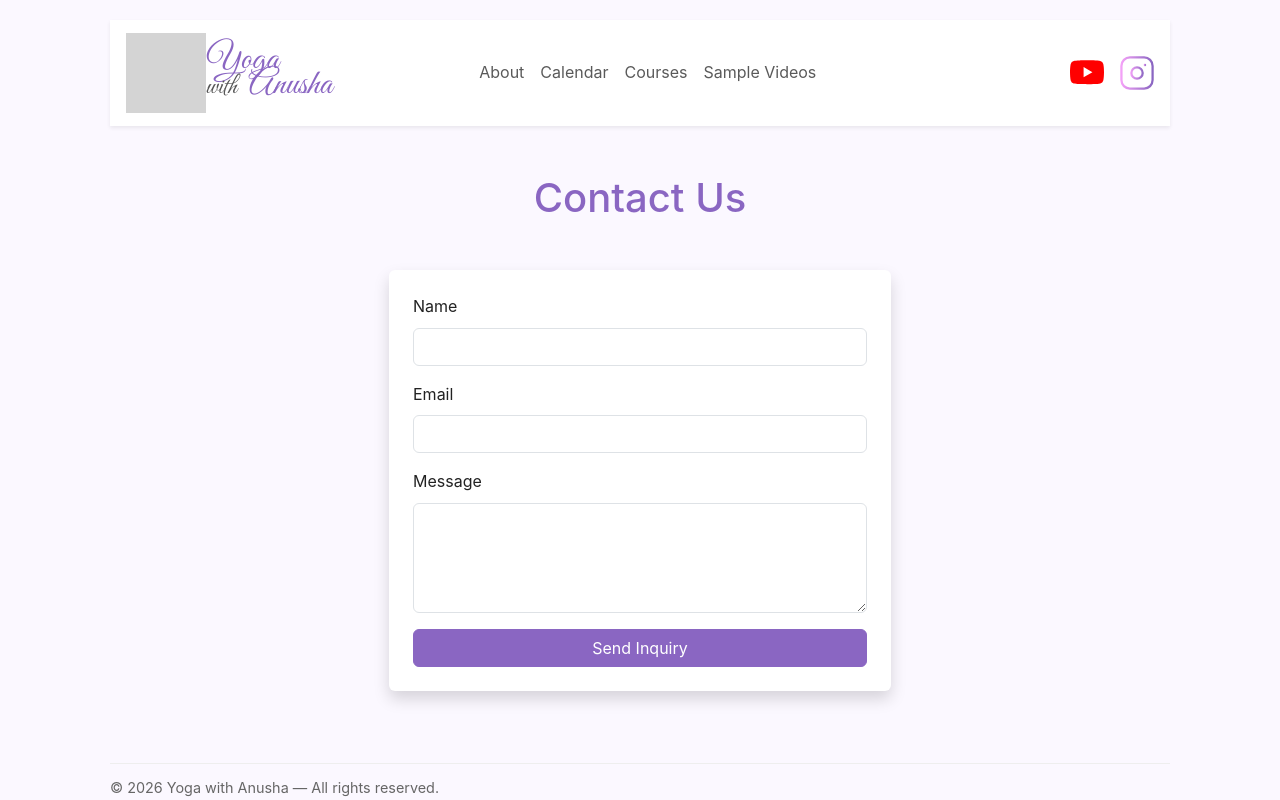
Test case: User Journey & Functional Tests › Functional: Contact form submission shows success and clears
Type "Test User" into the field labelled "Name" at (640, 347), box 413,328 -> 867,366
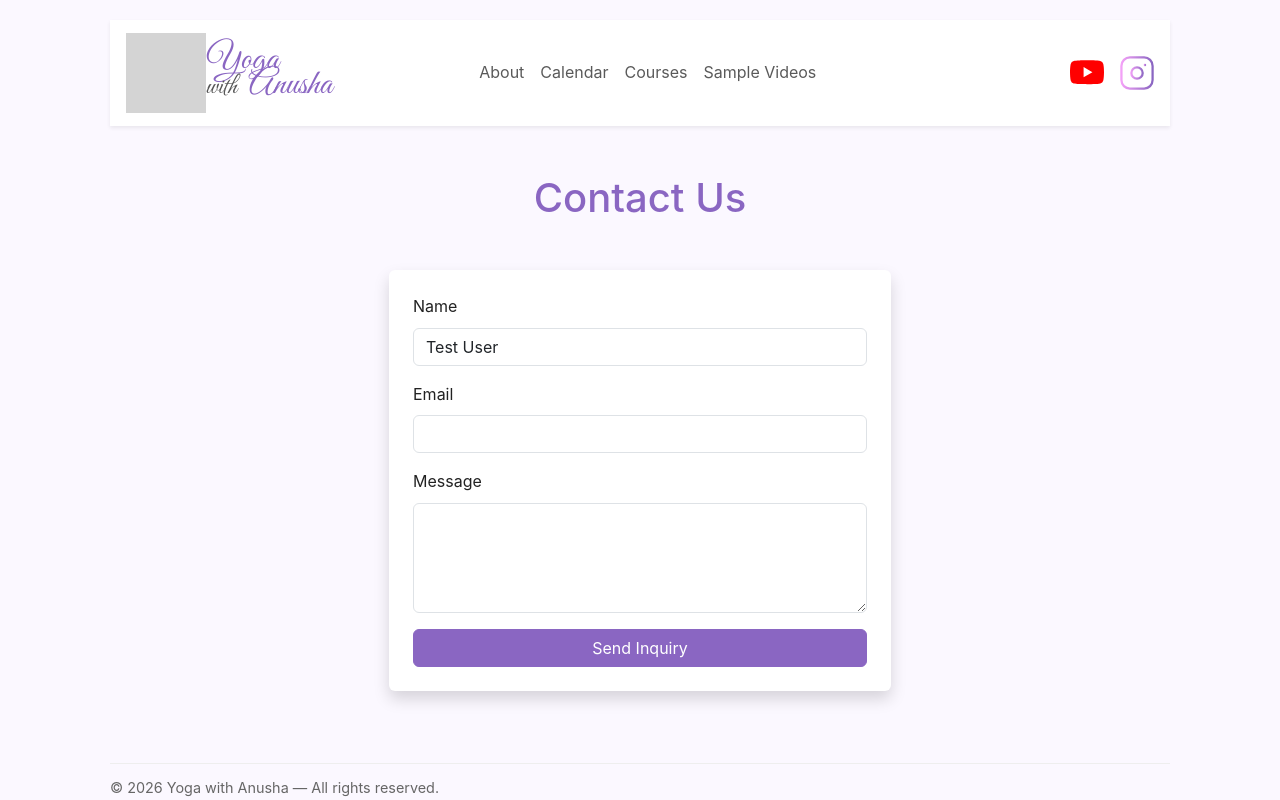
Type "test@user.com" into the field labelled "Email" at (640, 434), box 413,415 -> 867,453
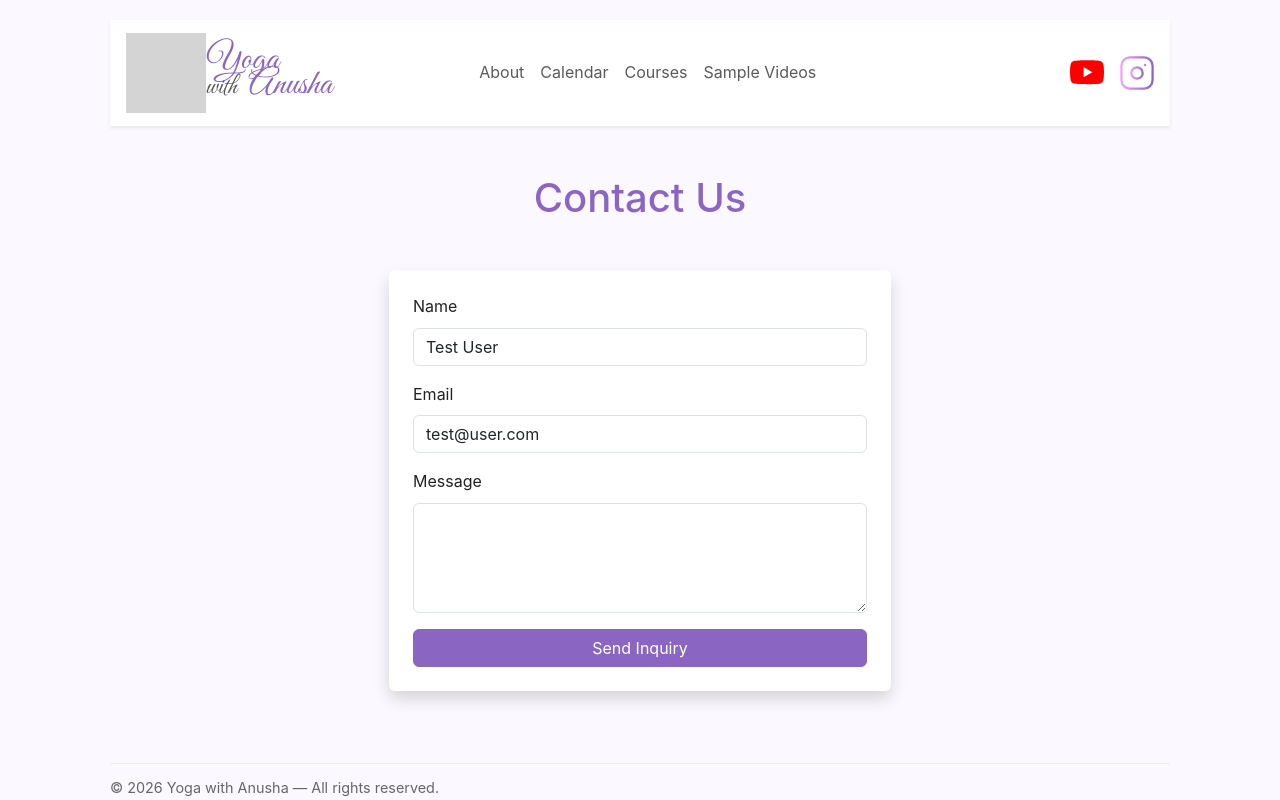
Type "Hello yoga!" into the text box labelled "Message" at (640, 558), box 413,503 -> 867,613
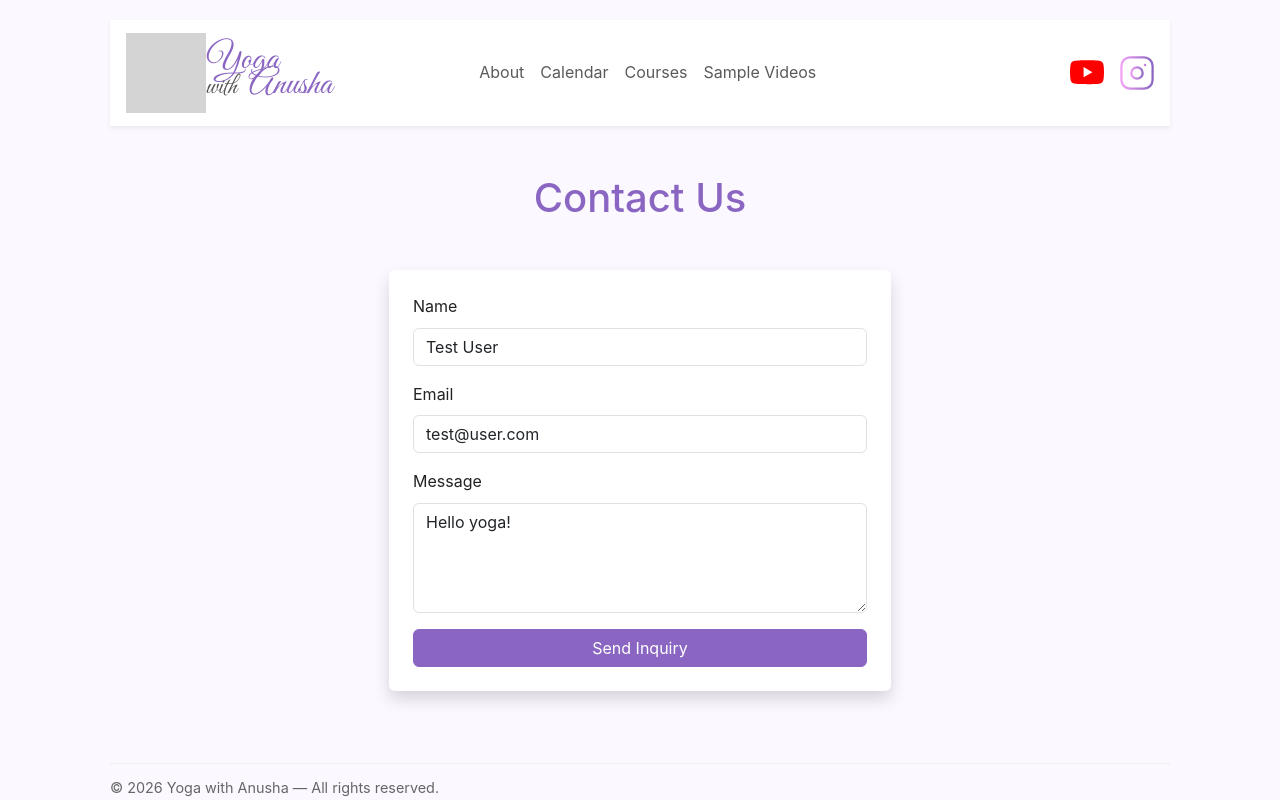
Click the button "Send Inquiry" at (640, 648), box 413,629 -> 867,667
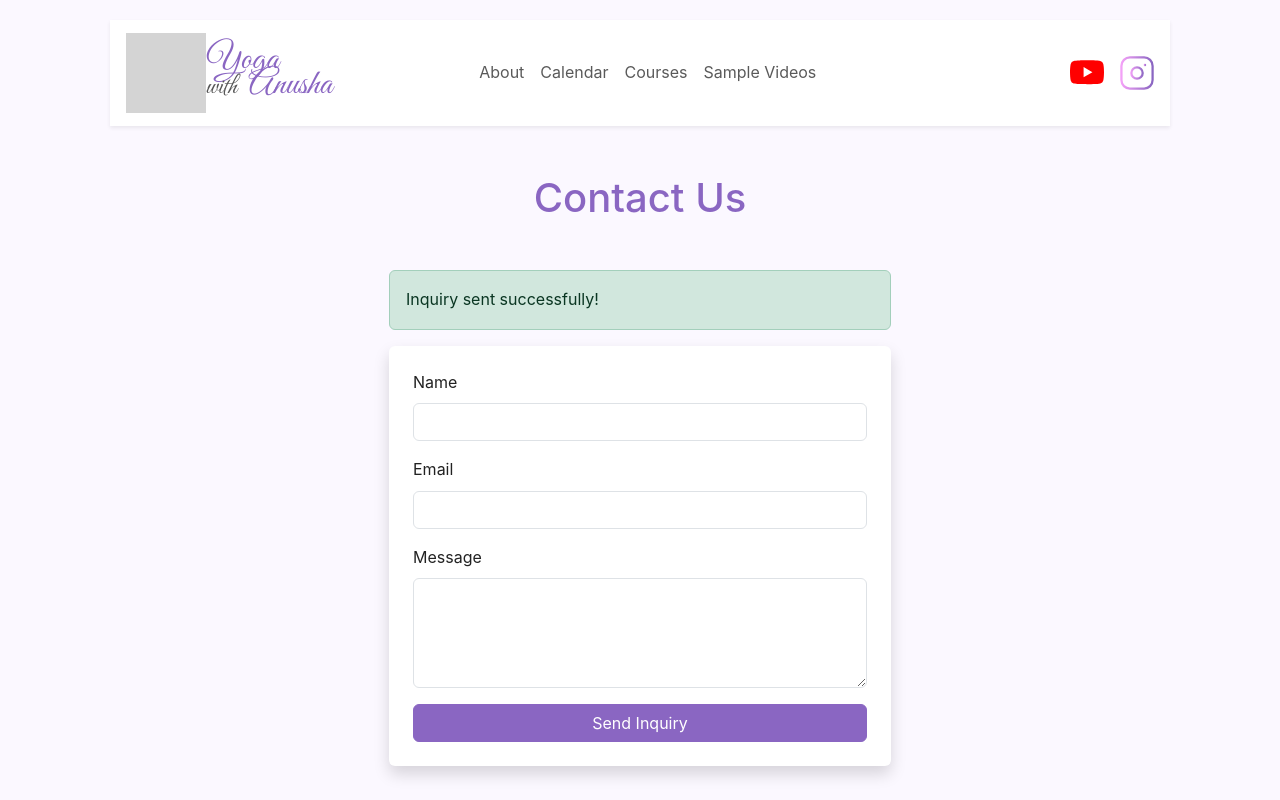
Expected: the text "Inquiry sent successfully!" is shown, 389,270 -> 891,330
Expected: the field labelled "Name" is empty, 413,403 -> 867,441
Expected: the field labelled "Email" is empty, 413,491 -> 867,529
